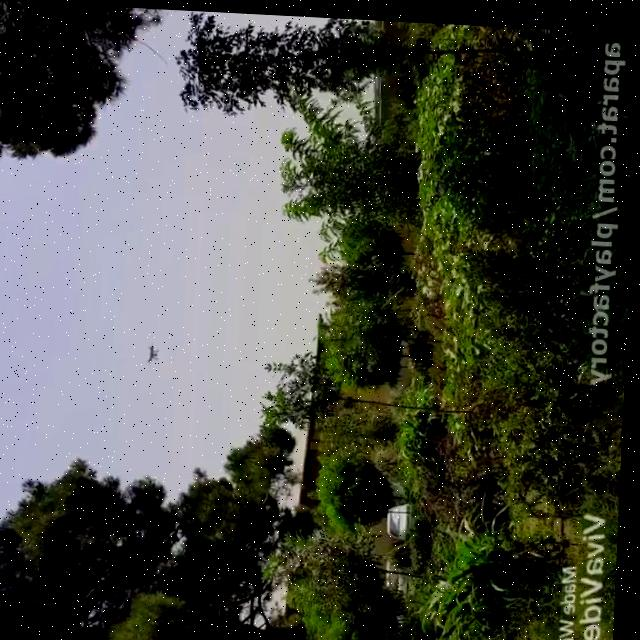drone: (145, 335, 165, 364)
